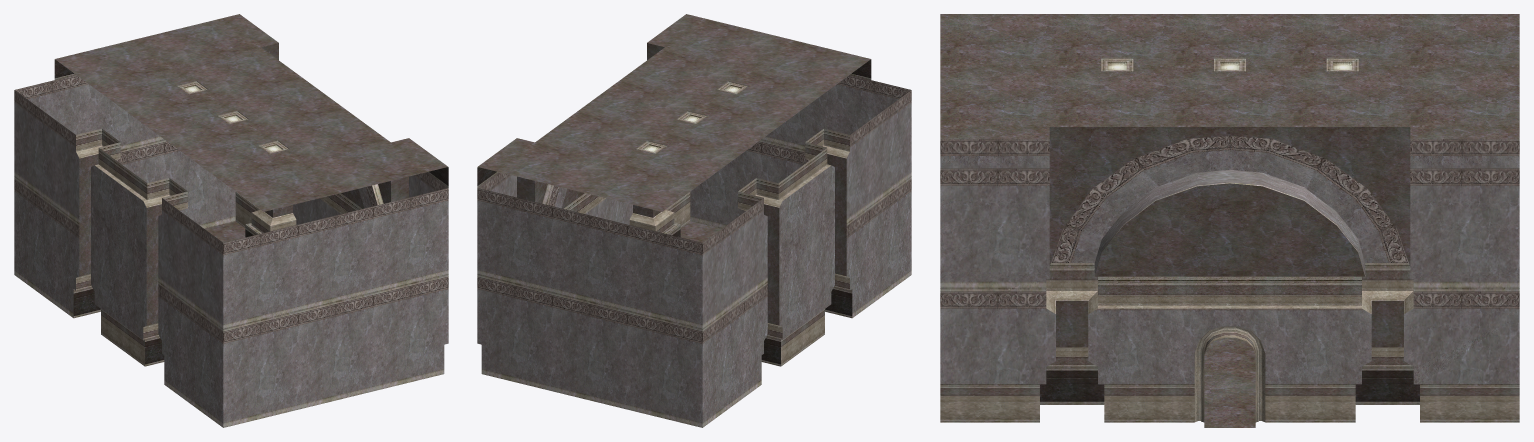
The model's file is ply_tato_capitol_s01_r4_mayoroffice_mesh_r4.fbx.
The picture shows the model from 3 angles, left to right: view 1: azimuth 30°, elevation 25°; view 2: azimuth 150°, elevation 25°; view 3: azimuth 270°, elevation 25°; orthographic projection. The views are drawn at different scales.
Visible parts, largest first — view 1: mesh_node; view 2: mesh_node; view 3: mesh_node.
Part boxes in pixels (bbox=[...]): mesh_node: bbox=[14, 14, 448, 427]; mesh_node: bbox=[477, 14, 911, 427]; mesh_node: bbox=[940, 14, 1519, 427].
Size of the model in its own units: 11.4 by 9.8 by 18.
